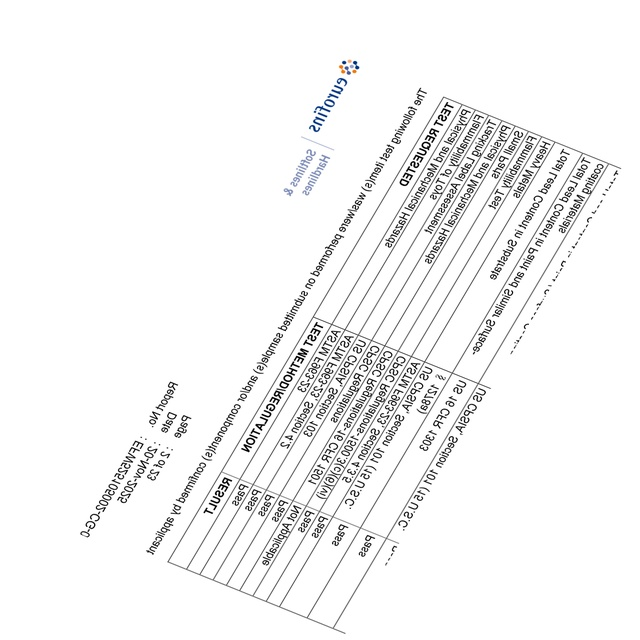eurofins: (303, 54, 361, 137)
